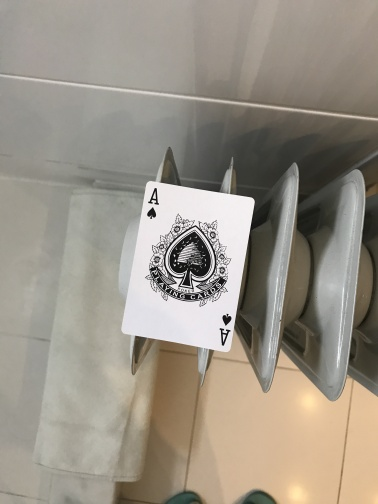ace: (120, 179, 256, 354)
